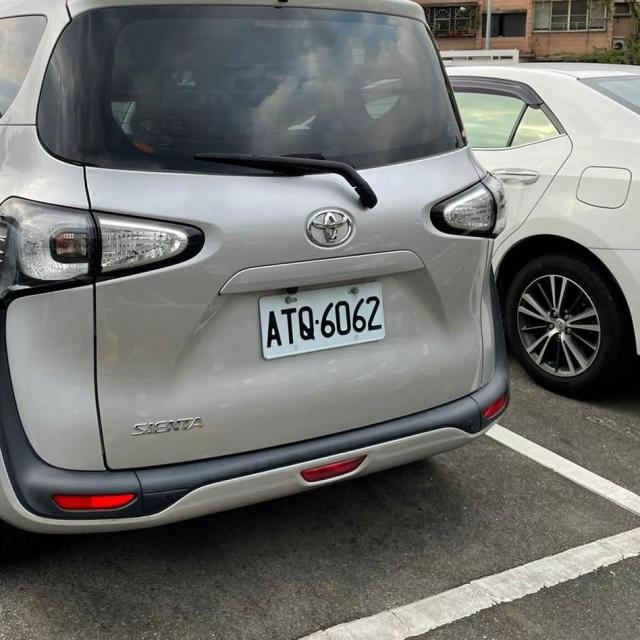W: (250, 274, 392, 362)
